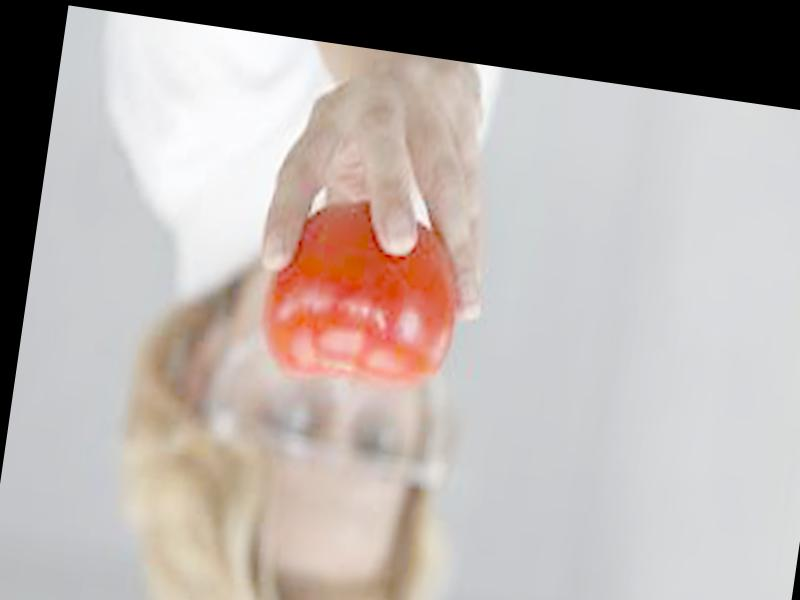Tomato: (250, 193, 468, 394)
